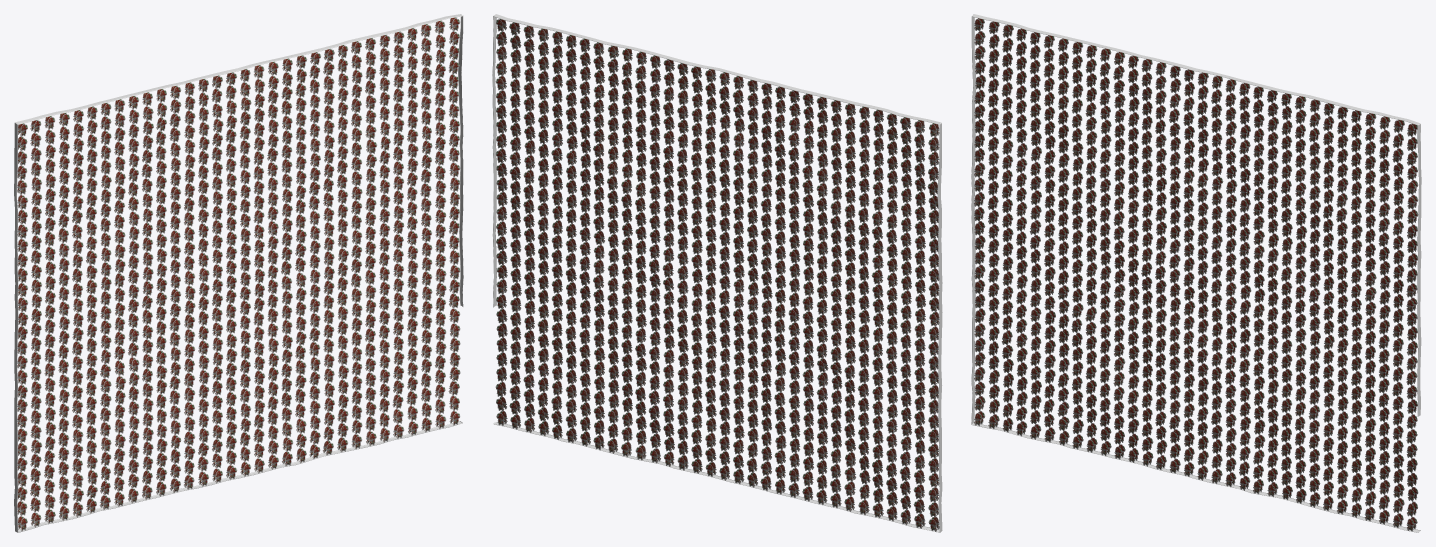
The model's file is SM_Tile_Floor8x7.fbx.
3 views of the same model, side by side, from view 1: azimuth 30°, elevation 25°; view 2: azimuth 150°, elevation 25°; view 3: azimuth 330°, elevation 25° (orthographic).
Parts seen in each view (by area): view 1: SM_Tile_Floor8x7; view 2: SM_Tile_Floor8x7; view 3: SM_Tile_Floor8x7.
Boxes of the visible parts, box(x1,y1,x2,y2) form: SM_Tile_Floor8x7: box(14, 14, 463, 532); SM_Tile_Floor8x7: box(492, 14, 942, 532); SM_Tile_Floor8x7: box(971, 14, 1421, 532).
Size of the model in its own units: 1603 by 1402 by 34.09.
